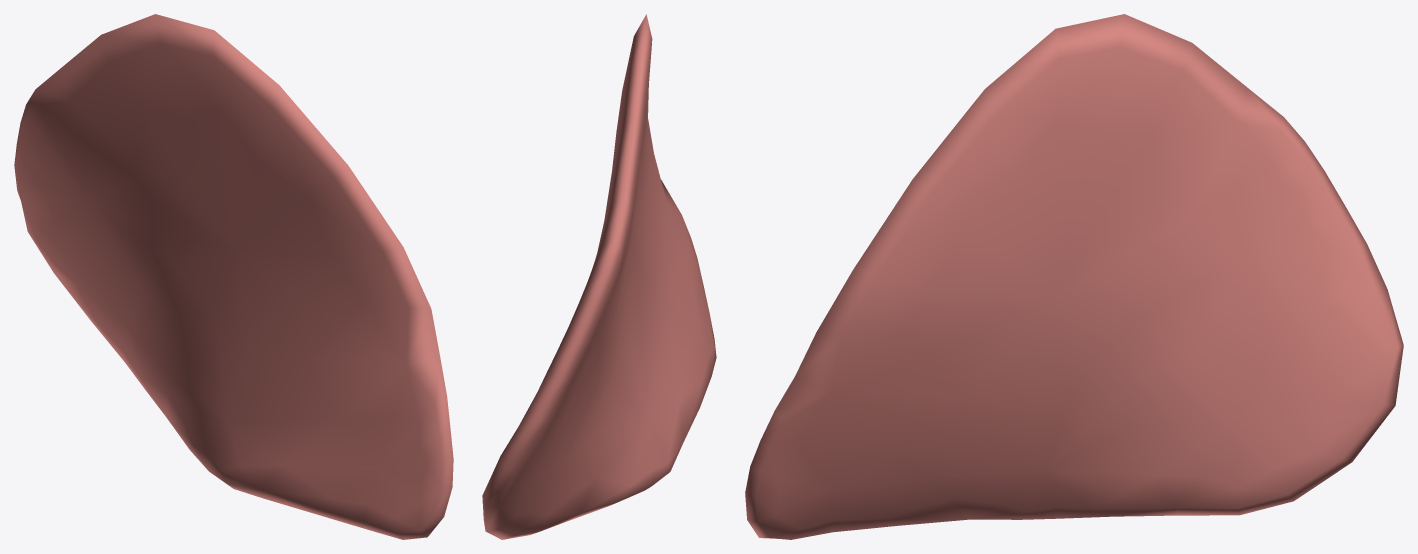
The picture shows the model from 3 angles, left to right: view 1: azimuth 30°, elevation 25°; view 2: azimuth 150°, elevation 25°; view 3: azimuth 270°, elevation 25°; orthographic projection. The views are drawn at different scales.
Parts seen in each view (by area): view 1: ZA_0bf989b798f56bdc; view 2: ZA_0bf989b798f56bdc; view 3: ZA_0bf989b798f56bdc.
Part boxes in pixels (x1,y1,x2,y2): ZA_0bf989b798f56bdc: (14, 14, 453, 539); ZA_0bf989b798f56bdc: (482, 14, 716, 539); ZA_0bf989b798f56bdc: (745, 14, 1403, 539).
Bounding box in the file's own units: 0.00408 × 0.00939 × 0.0115.
